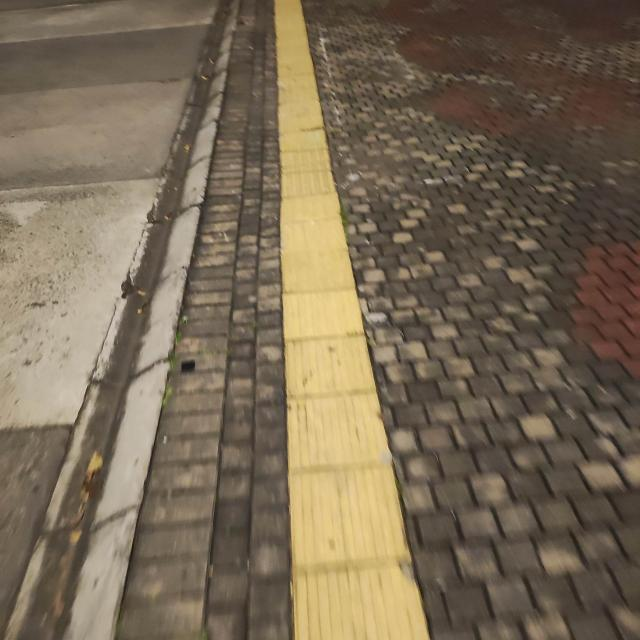lurus: (276, 129, 400, 640)
